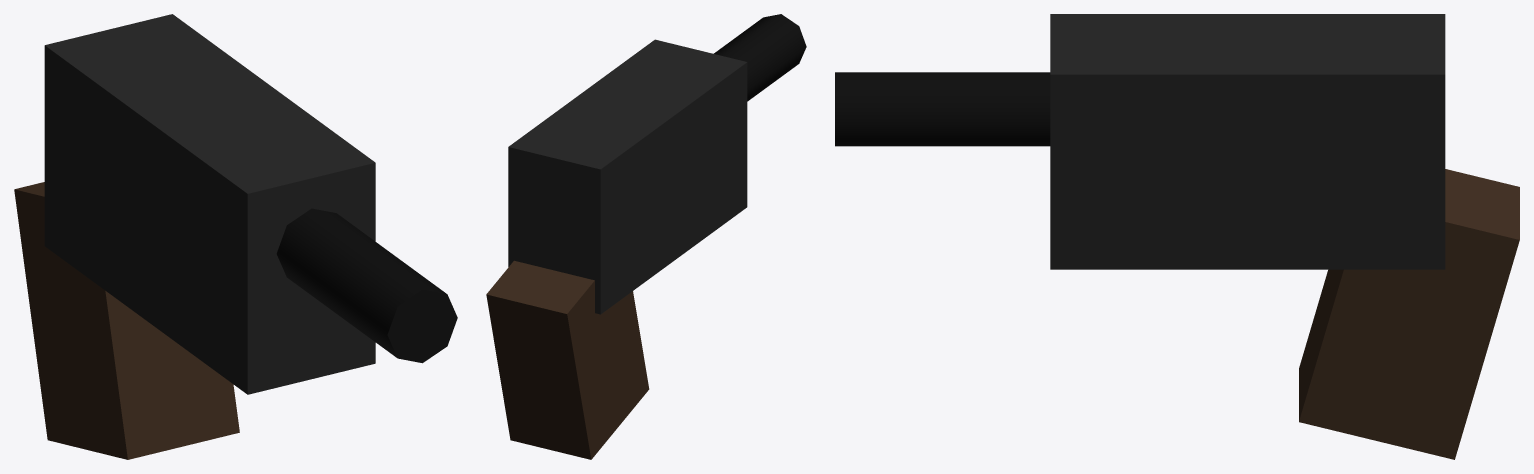
File: pistol.glb
The picture shows the model from 3 angles, left to right: view 1: azimuth 30°, elevation 25°; view 2: azimuth 150°, elevation 25°; view 3: azimuth 270°, elevation 25°; orthographic projection. The views are drawn at different scales.
Visible parts, largest first — view 1: pistol; view 2: pistol; view 3: pistol.
Part boxes in pixels (left/top/right/bottom): pistol: left=14, top=14, right=457, bottom=459; pistol: left=486, top=14, right=806, bottom=459; pistol: left=835, top=14, right=1519, bottom=459.
Bounding box in the file's own units: 0.08 × 0.2393 × 0.3816.
